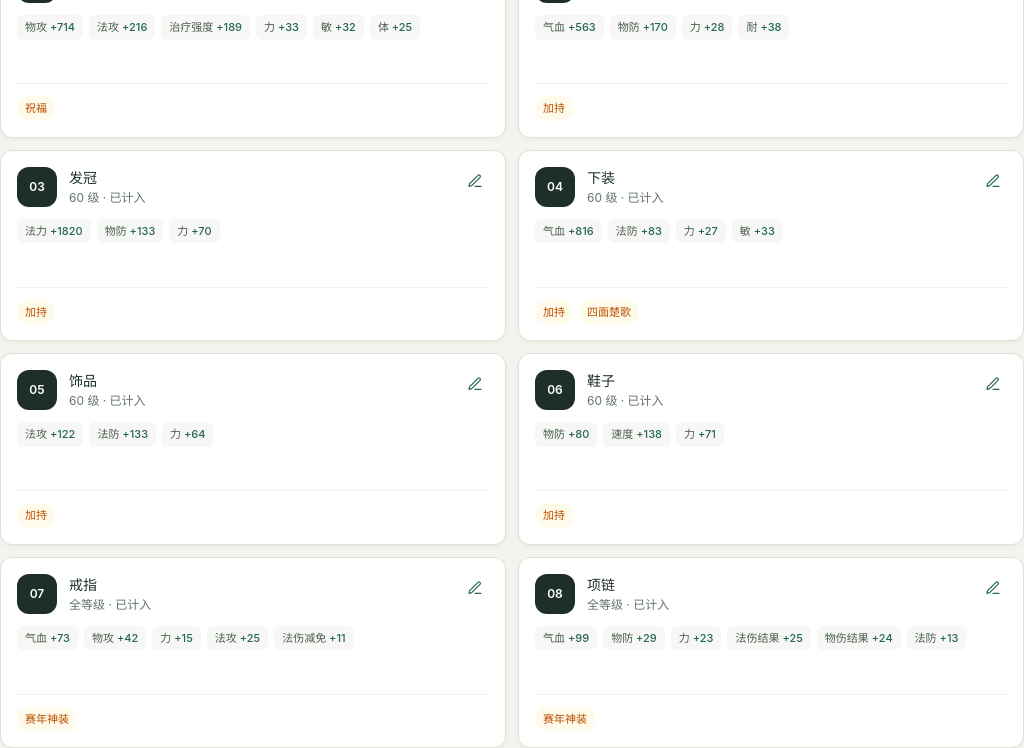
Test: EquipmentCalculator › 应该编辑 1～6 级独立词条并把已收录属性计入面板
(page scrolled)
Expected: the element "鞋子" is shown, [518, 353, 1023, 544]
Click the button named "编辑鞋子" at x=993, y=384, box [979, 370, 1007, 398]
(page scrolled)
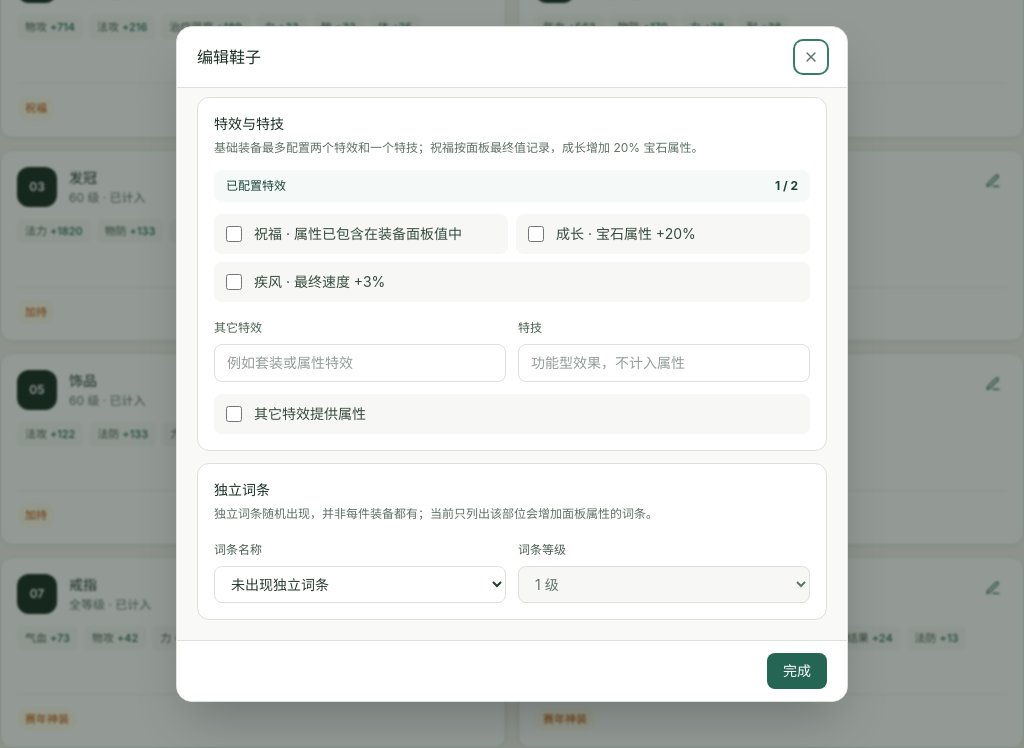
Now the dropdown named "鞋子：独立词条等级" is disabled, box [518, 566, 810, 603]
Select "扶摇 · 抗封 +1/级" in the dropdown named "鞋子：独立词条" at x=360, y=584, box [214, 566, 506, 603]
(page scrolled)
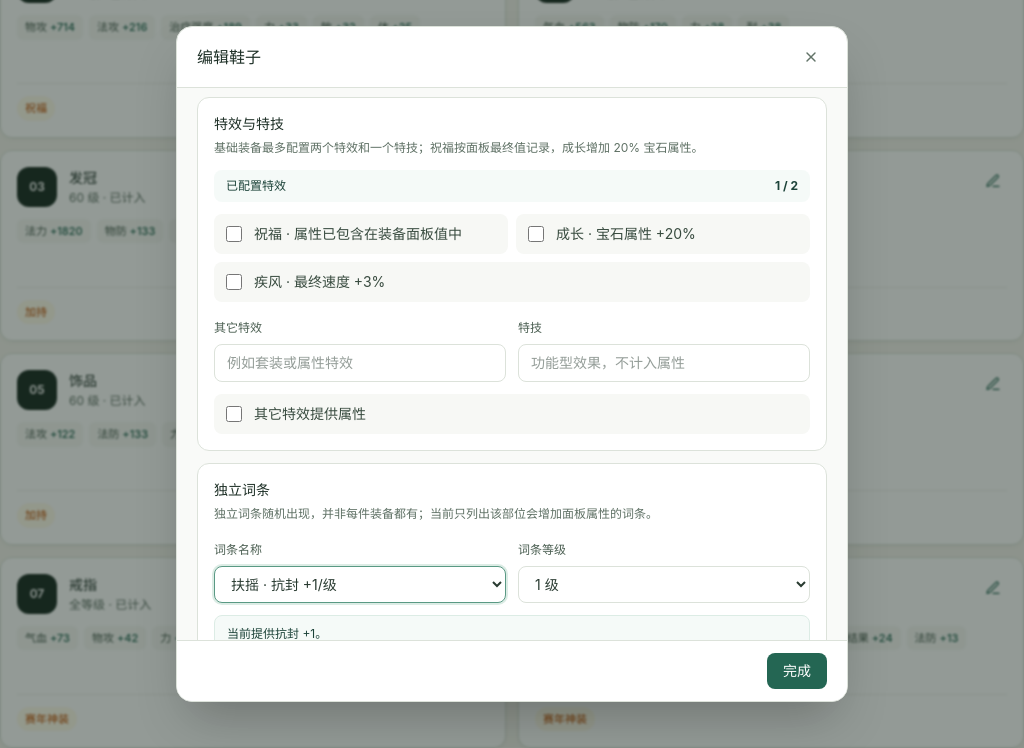
Select "3 级" in the dropdown named "鞋子：独立词条等级" at x=664, y=584, box [518, 566, 810, 603]
(page scrolled)
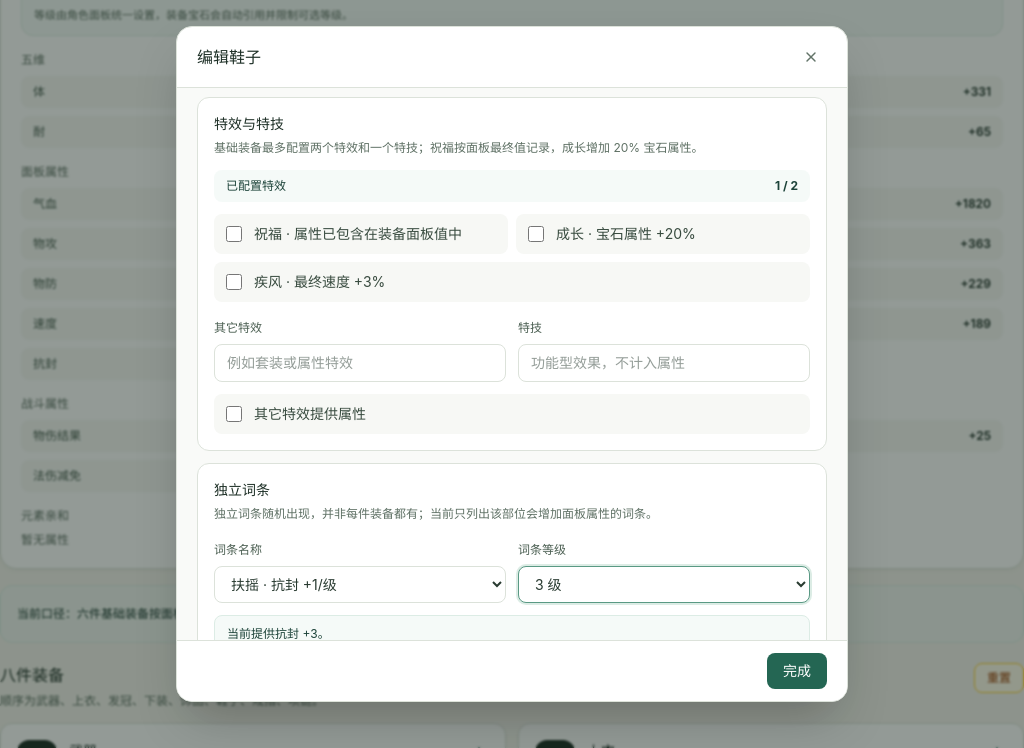
Now the dialog "编辑鞋子" shows "当前提供抗封 +3", box [176, 26, 848, 702]
